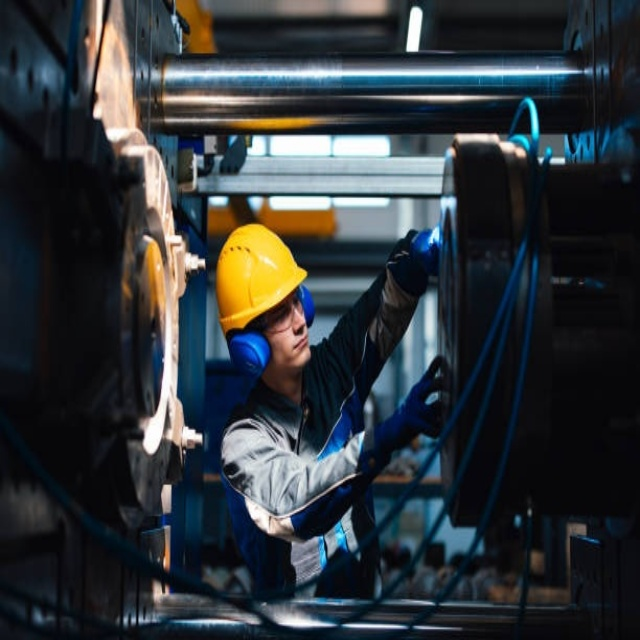Gafas: (259, 289, 307, 334)
Guantes: (370, 347, 445, 467)
Sin_mascara: (276, 331, 307, 369)
